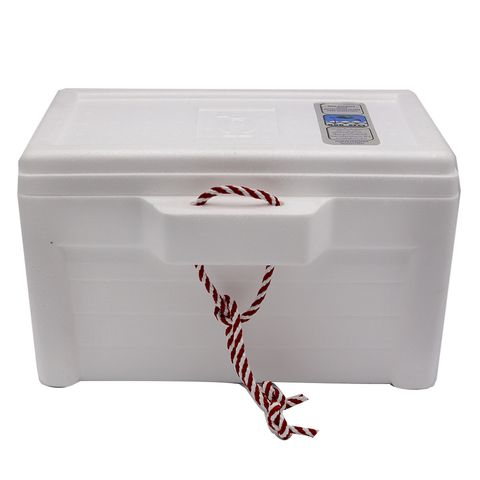Foam Box: (14, 84, 464, 444)
